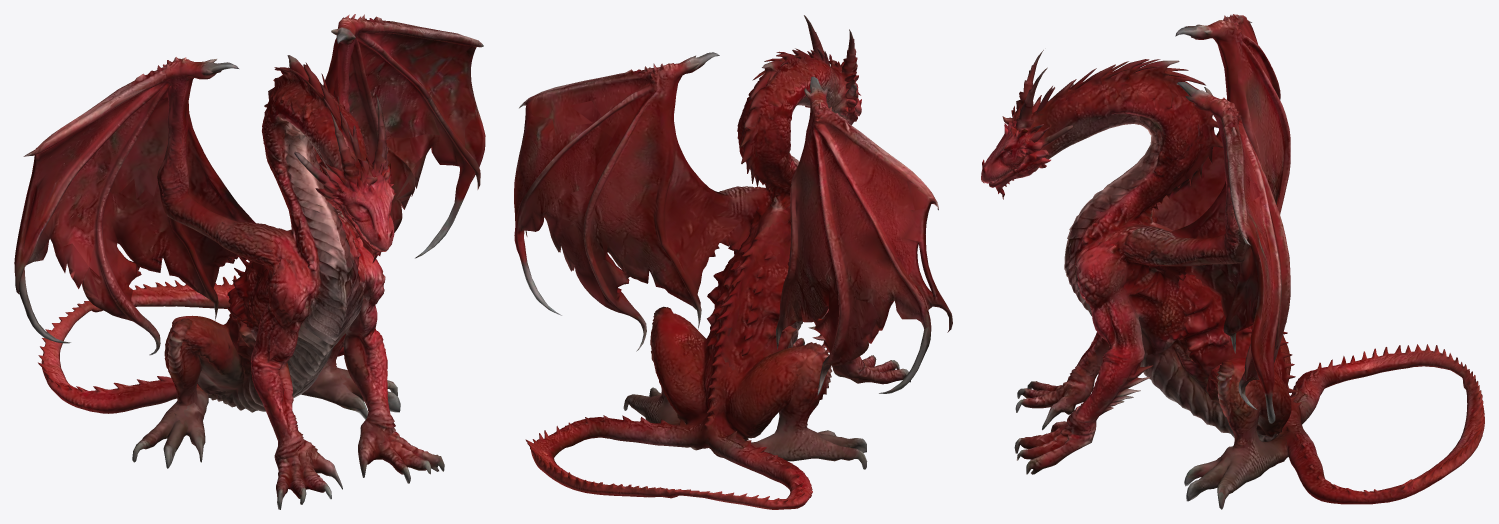
File: web.glb
3 views of the same model, side by side, from view 1: azimuth 30°, elevation 25°; view 2: azimuth 150°, elevation 25°; view 3: azimuth 270°, elevation 25° (orthographic). The views are drawn at different scales.
Parts seen in each view (by area): view 1: model; view 2: model; view 3: model.
Part boxes in pixels (box(x1,y1,x2,y2)): model: box(14, 14, 485, 509); model: box(514, 15, 952, 509); model: box(981, 14, 1484, 509).
Size of the model in its own units: 2 by 1.6 by 1.86.
Materials: 1 (1 with a texture image).
